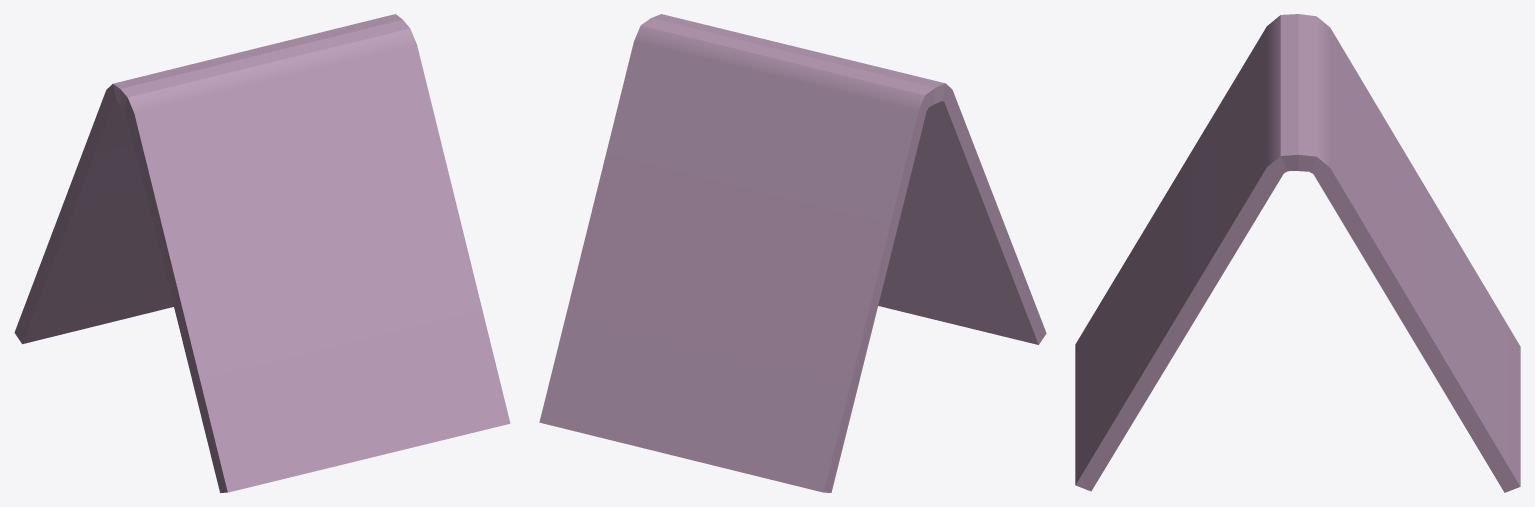
File: Friday_Evidence_Tag.fbx
The picture shows the model from 3 angles, left to right: view 1: azimuth 30°, elevation 25°; view 2: azimuth 150°, elevation 25°; view 3: azimuth 270°, elevation 25°; orthographic projection. The views are drawn at different scales.
Parts seen in each view (by area): view 1: pCube3; view 2: pCube3; view 3: pCube3.
Part boxes in pixels (x1,y1,x2,y2): pCube3: [14, 14, 510, 492]; pCube3: [539, 14, 1046, 492]; pCube3: [1075, 14, 1520, 492].
Size of the model in its own units: 17.62 by 19.38 by 23.15.
